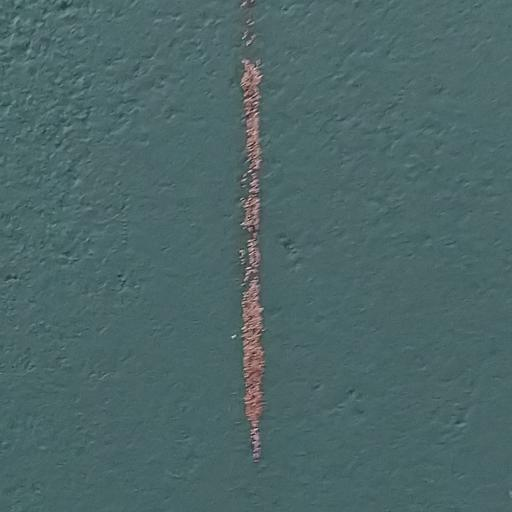stain: (181, 2, 309, 506)
